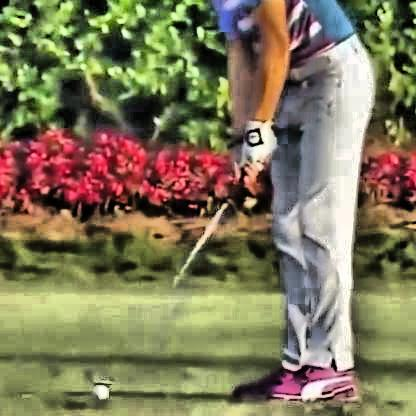golfball: (90, 379, 108, 398)
